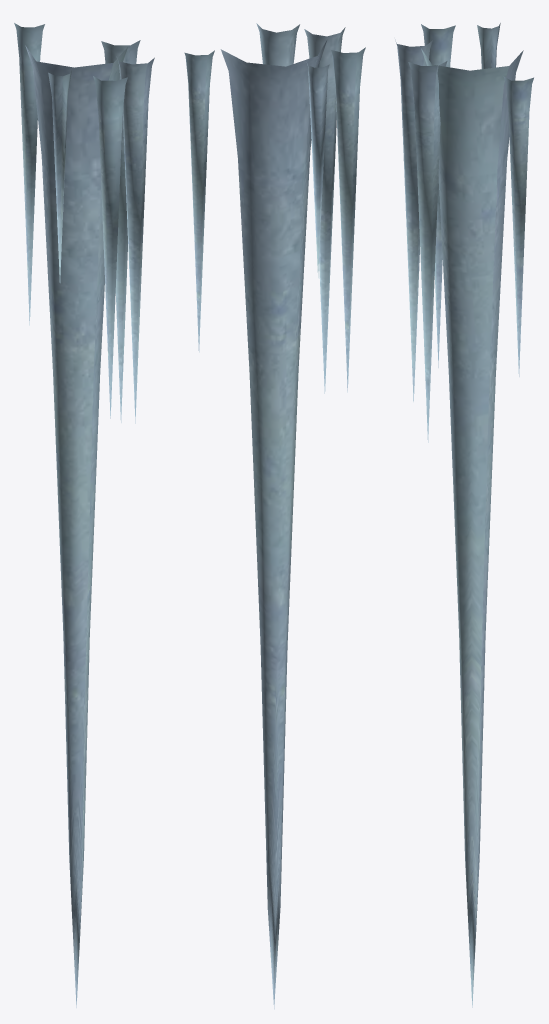
File: tesv_caveiiciclemed01-transformed.glb
The picture shows the model from 3 angles, left to right: view 1: azimuth 90°, elevation 25°; view 2: azimuth 150°, elevation 25°; view 3: azimuth 270°, elevation 25°; orthographic projection.
Visible parts, largest first — view 1: caveiiciclemed01; view 2: caveiiciclemed01; view 3: caveiiciclemed01.
Boxes of the visible parts, x1,y1,x2,y2 form: caveiiciclemed01: (14, 23, 154, 1007); caveiiciclemed01: (184, 23, 365, 1009); caveiiciclemed01: (395, 23, 533, 1007).
Size of the model in its own units: 0.2883 by 1.94 by 0.2566.
Materials: 1 (1 with a texture image).
